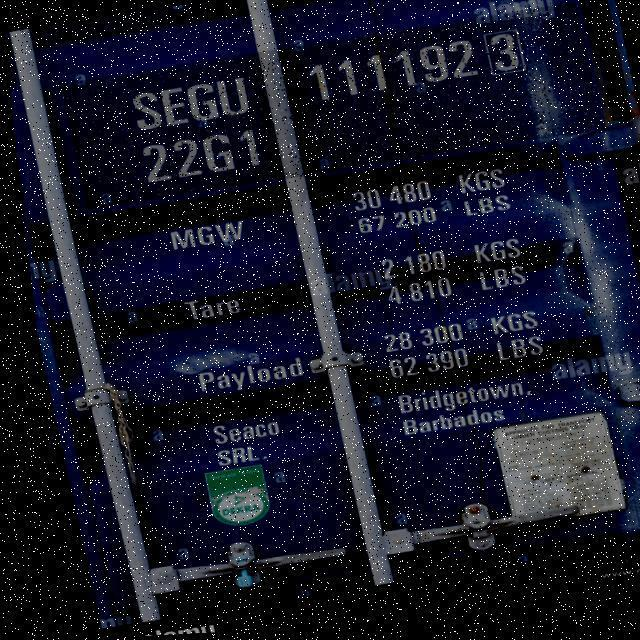container_number_h: (53, 7, 605, 211)
